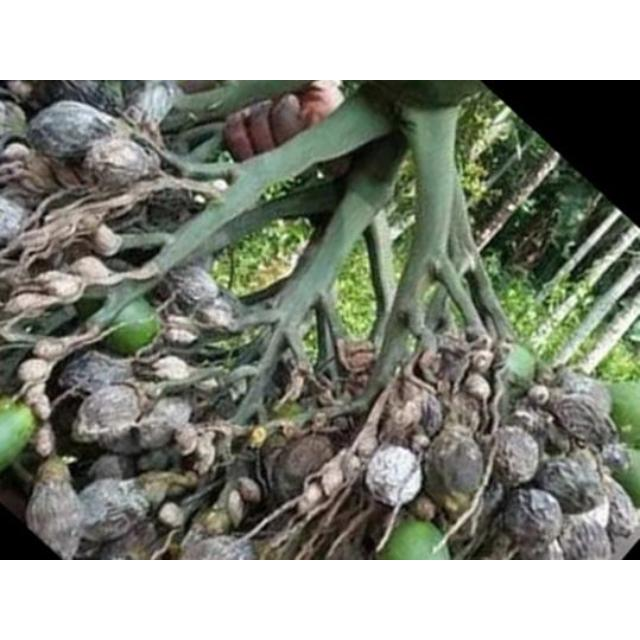damaged: (72, 382, 146, 450), (425, 429, 487, 506), (84, 136, 158, 192), (532, 455, 600, 513), (379, 382, 438, 444), (487, 428, 541, 488), (94, 520, 166, 560), (162, 264, 222, 312), (138, 185, 202, 228), (258, 439, 294, 496), (510, 400, 554, 446), (364, 505, 404, 553), (316, 524, 369, 560), (430, 344, 470, 391), (192, 298, 238, 334), (85, 453, 131, 483), (192, 506, 235, 536), (67, 256, 111, 284), (32, 336, 74, 362), (88, 223, 122, 254), (150, 356, 190, 382), (192, 432, 218, 472), (336, 451, 364, 487), (16, 357, 52, 385), (44, 274, 82, 300), (352, 426, 380, 460), (318, 464, 346, 498), (464, 373, 492, 403), (26, 390, 52, 422), (158, 502, 186, 528), (236, 477, 262, 505), (470, 348, 496, 374), (1, 141, 31, 163), (227, 489, 246, 523), (302, 482, 324, 508), (329, 416, 355, 436), (177, 435, 200, 457), (528, 384, 550, 406)
